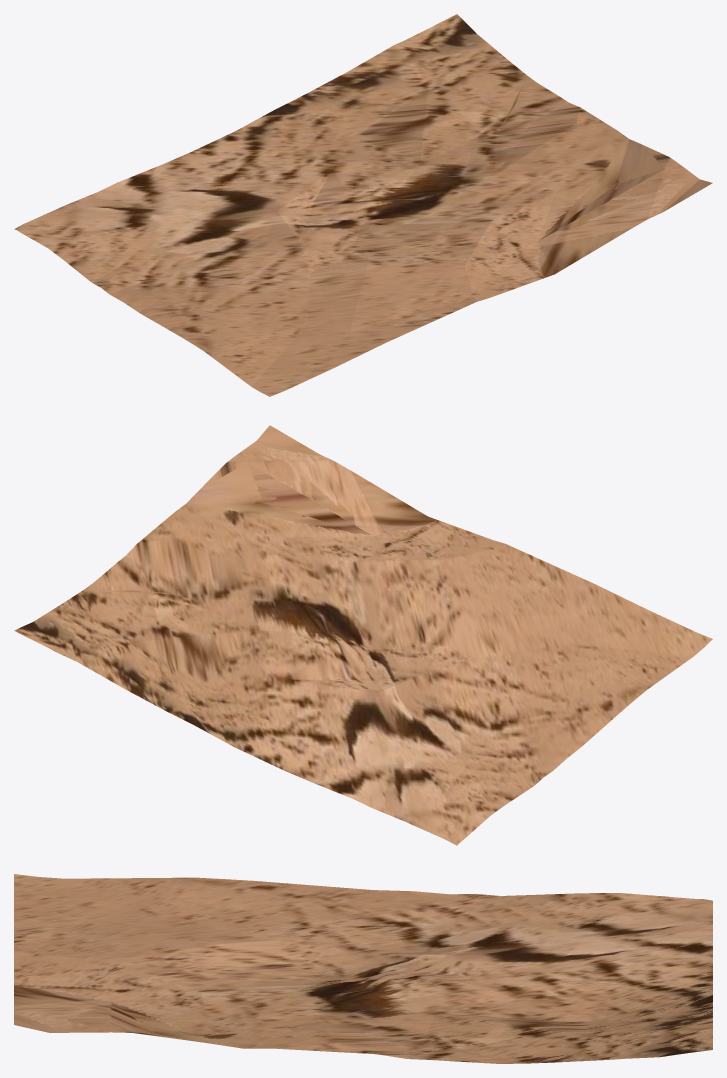
3 views of the same model, one above another, from view 1: azimuth 30°, elevation 25°; view 2: azimuth 150°, elevation 25°; view 3: azimuth 270°, elevation 25° (orthographic). The views are drawn at different scales.
Bounding box in the file's own units: 1.04 × 0.2822 × 1.04.
2 materials, 2 textured.
